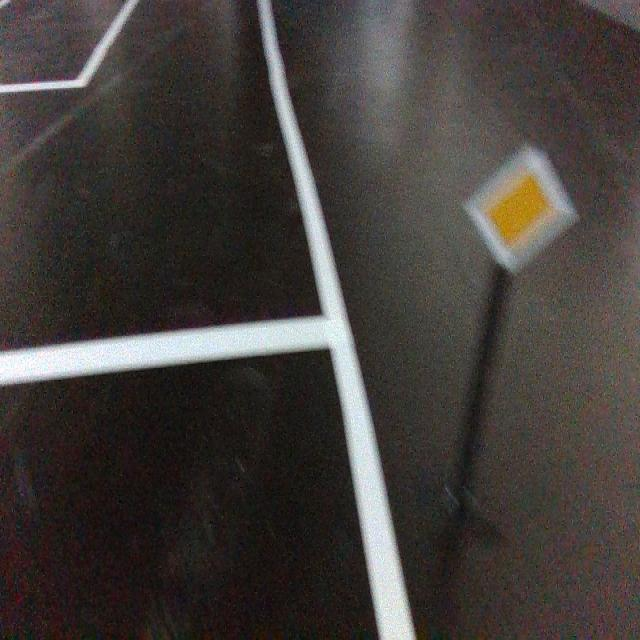priority-sign: (459, 140, 582, 278)
